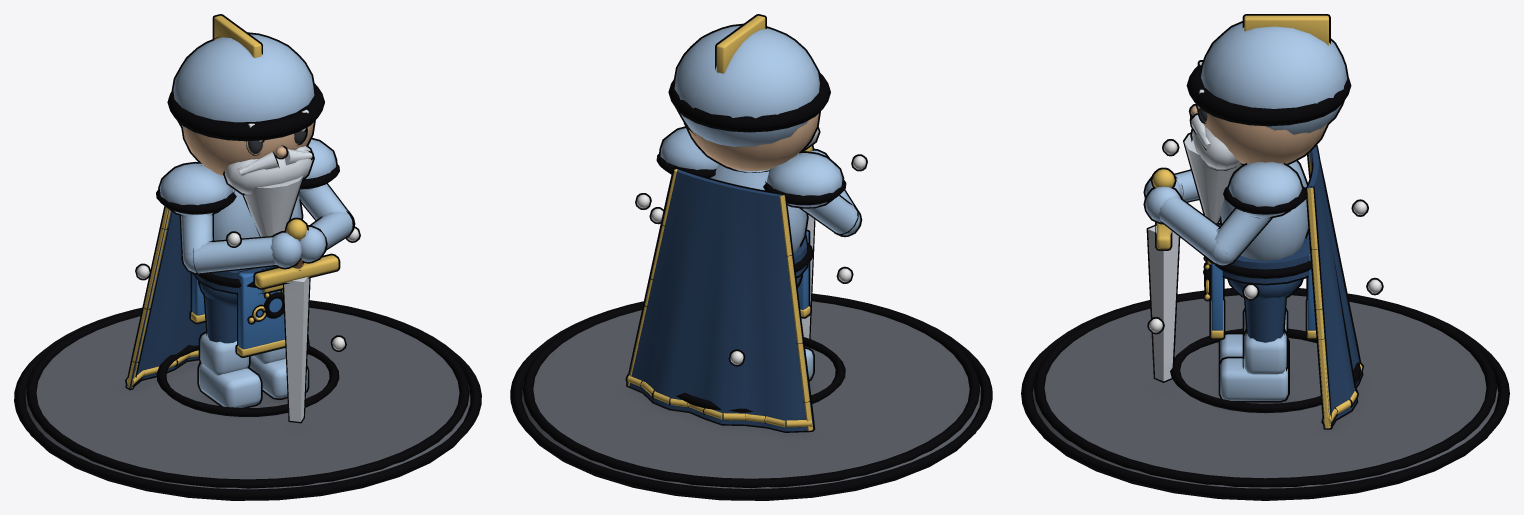
File: spirit_knight_s3.fbx
3 renders of one model, left to right at view 1: azimuth 30°, elevation 25°; view 2: azimuth 150°, elevation 25°; view 3: azimuth 270°, elevation 25°, orthographic. The views are drawn at different scales.
Visible parts, largest first — view 1: spirit_knight_s3; view 2: spirit_knight_s3; view 3: spirit_knight_s3.
Boxes of the visible parts, x1,y1,x2,y2 form: spirit_knight_s3: (14,14,481,500); spirit_knight_s3: (510,14,992,500); spirit_knight_s3: (1021,14,1509,500).
Size of the model in its own units: 3.28 by 2.85 by 3.28.
Materials: 2 (1 with a texture image).
